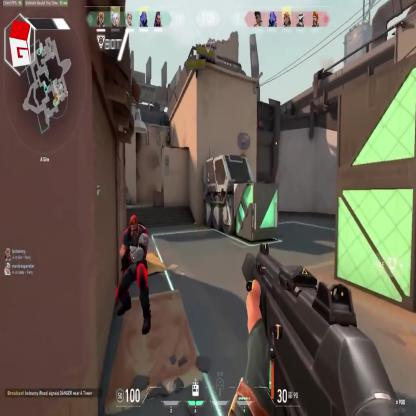enemy: (115, 214, 152, 335)
enemy_head: (129, 215, 138, 238)
